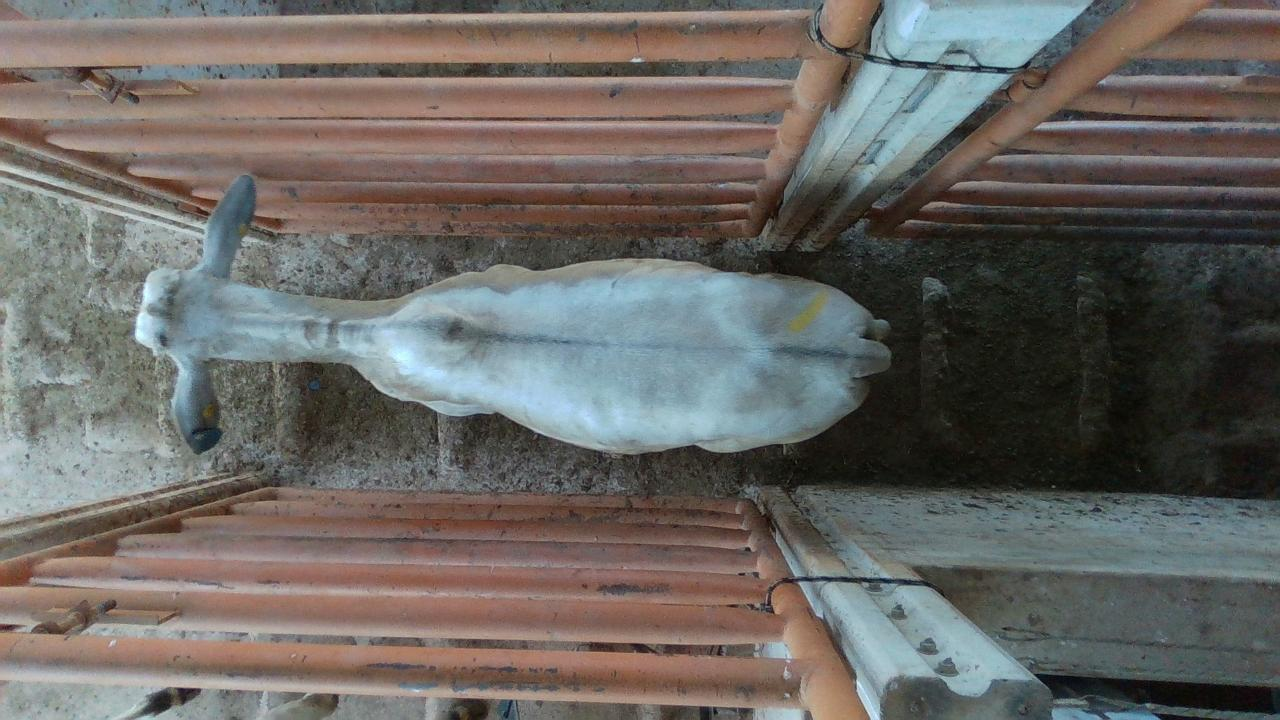cattle: (132, 172, 893, 457)
